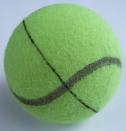tennis ball: (3, 2, 123, 124)
